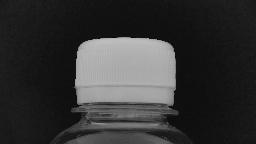Good Cap: (68, 35, 182, 118)
